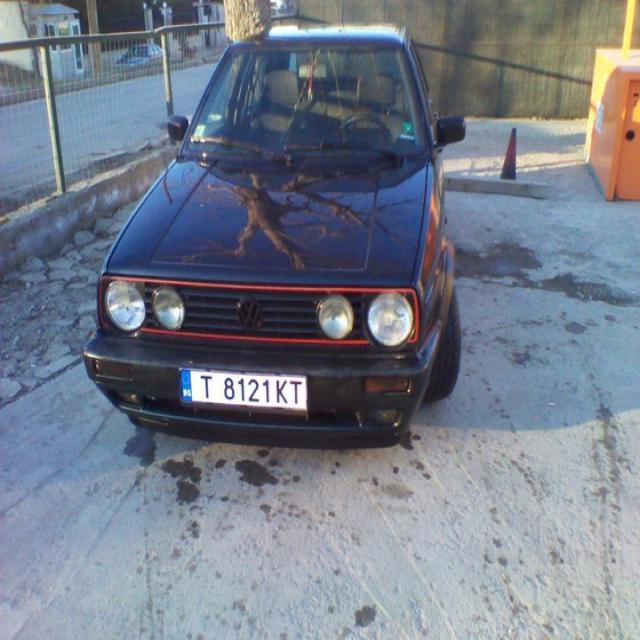car: (70, 27, 470, 460)
